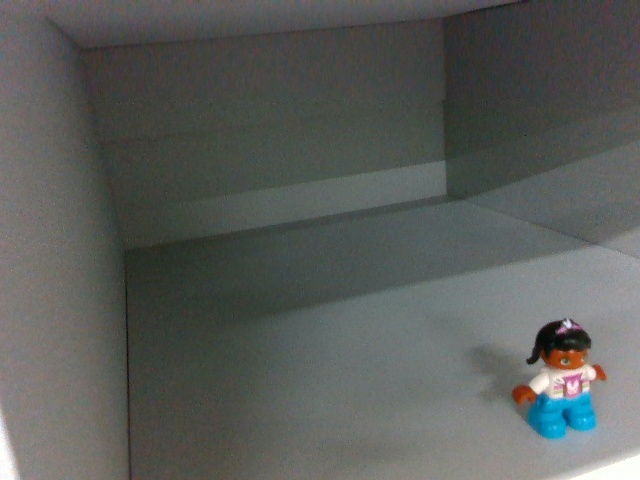people: (513, 315, 612, 444)
